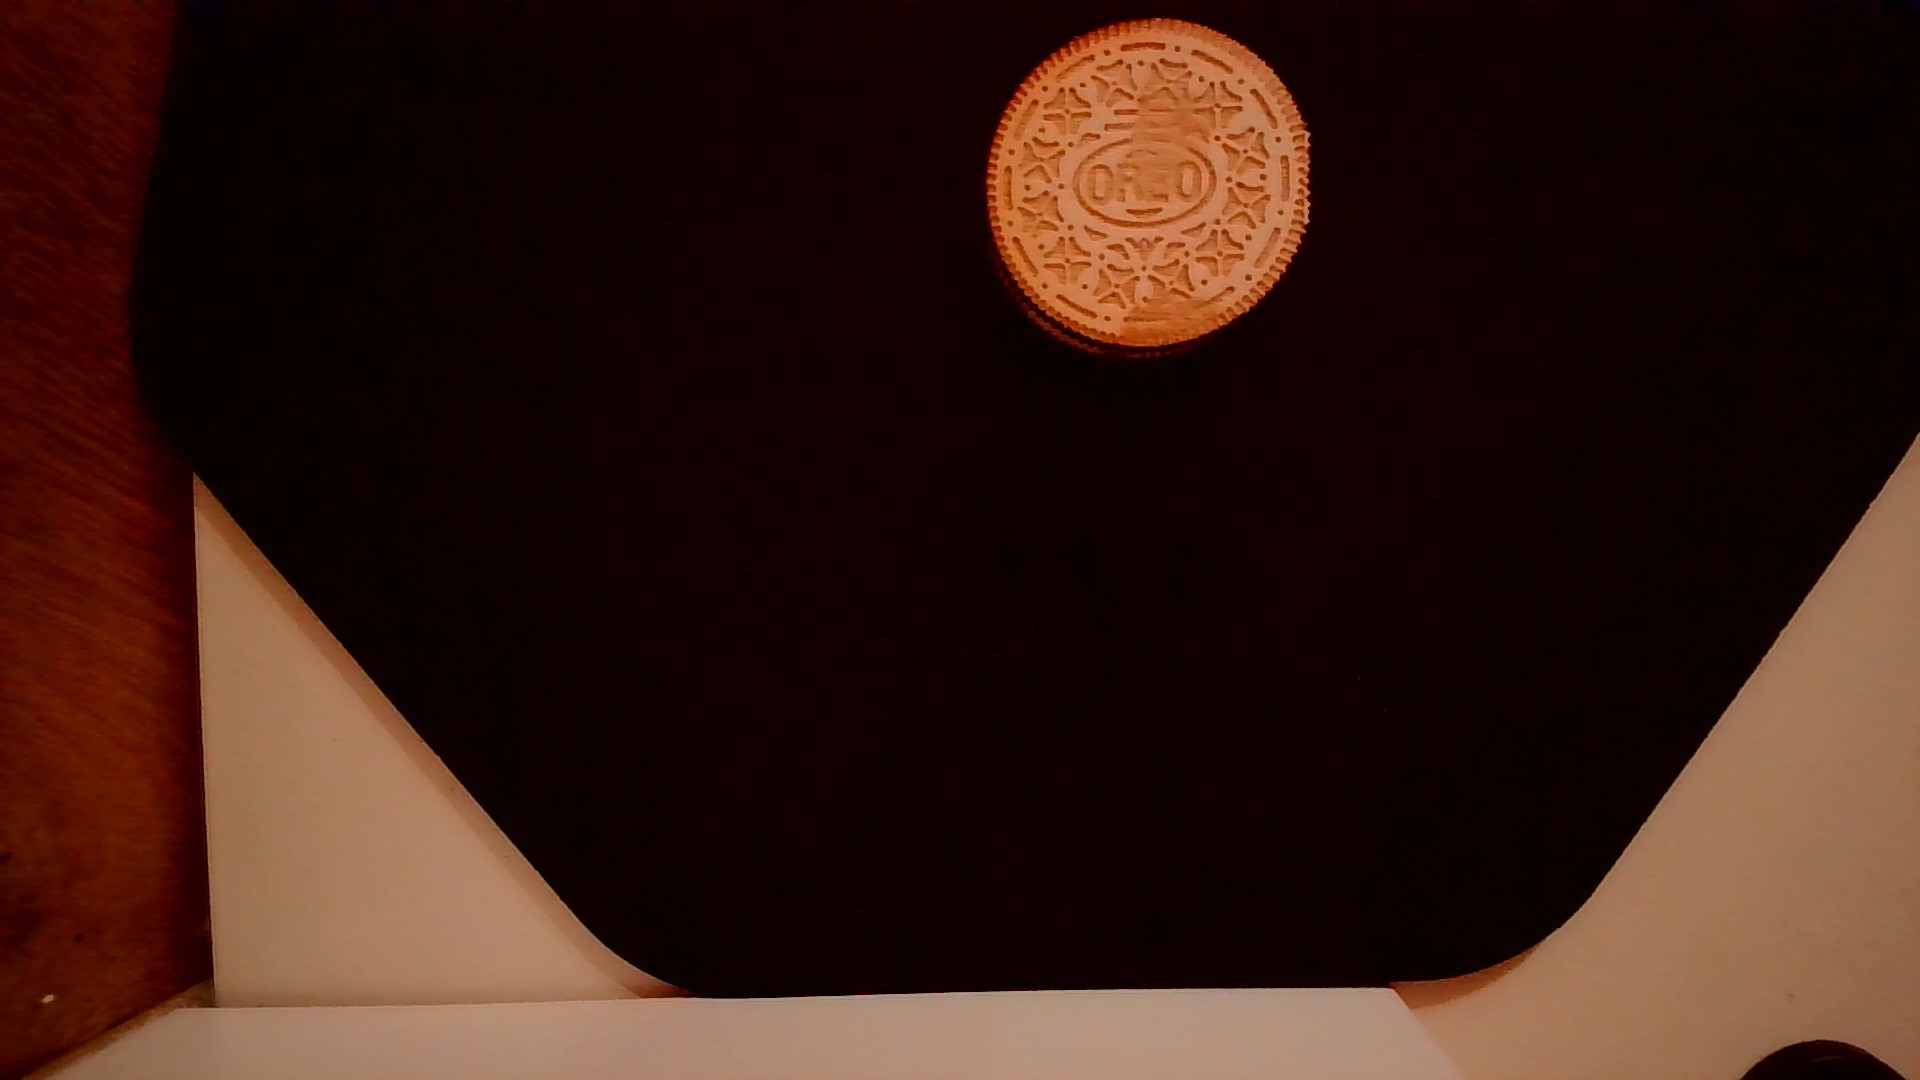Effacé: (1120, 86, 1208, 178), (1113, 294, 1216, 349)
Oréo: (975, 11, 1320, 367)
